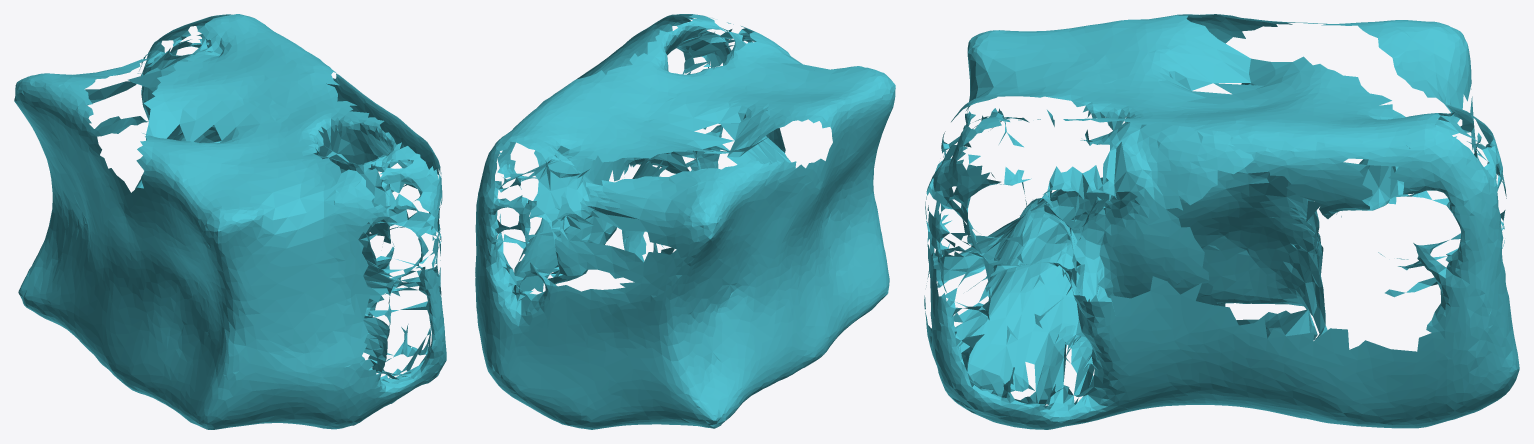
The picture shows the model from 3 angles, left to right: view 1: azimuth 30°, elevation 25°; view 2: azimuth 150°, elevation 25°; view 3: azimuth 270°, elevation 25°; orthographic projection. The views are drawn at different scales.
Parts seen in each view (by area): view 1: Renderer Node; view 2: Renderer Node; view 3: Renderer Node.
Boxes of the visible parts, x1,y1,x2,y2 form: Renderer Node: [14, 14, 446, 429]; Renderer Node: [475, 14, 895, 429]; Renderer Node: [924, 14, 1519, 429].
Size of the model in its own units: 0.4253 by 0.4347 by 0.7248.
1 material, 1 textured.
